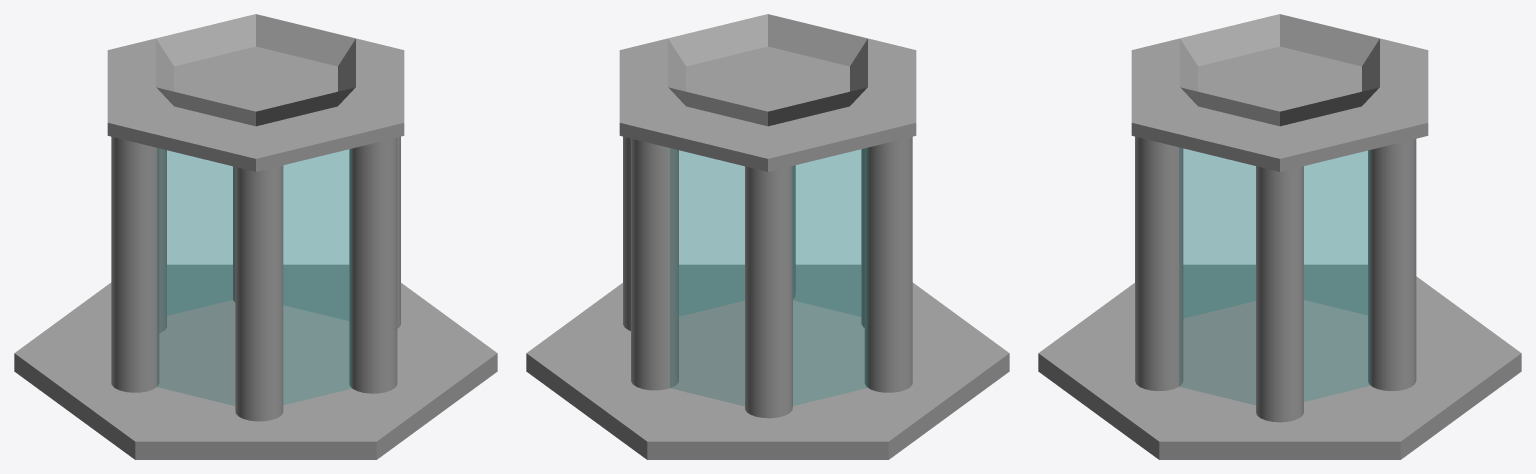
The model's file is DirtMine.fbx.
The picture shows the model from 3 angles, left to right: view 1: azimuth 30°, elevation 25°; view 2: azimuth 150°, elevation 25°; view 3: azimuth 270°, elevation 25°; orthographic projection.
Visible parts, largest first — view 1: Bottom_Base, Top_Base, pPlane1, pPlane3, pCylinder2, pCylinder1, pCylinder3, Top_Base2, pPlane4, pPlane2, pCylinder4, pCylinder6; view 2: Bottom_Base, Top_Base, pPlane6, pPlane2, pCylinder3, pCylinder4, pCylinder5, pPlane3, Top_Base2, pPlane5, pCylinder6, pCylinder2; view 3: Bottom_Base, Top_Base, pPlane5, pPlane4, pCylinder1, pCylinder6, pCylinder5, pPlane1, Top_Base2, pPlane6.
Part boxes in pixels (left/top/right/bottom): Bottom_Base: left=14, top=264, right=497, bottom=459; Top_Base: left=107, top=14, right=404, bottom=171; pPlane1: left=157, top=148, right=234, bottom=405; pPlane3: left=284, top=149, right=351, bottom=404; pCylinder2: left=235, top=165, right=283, bottom=421; pCylinder1: left=349, top=137, right=397, bottom=393; pCylinder3: left=111, top=136, right=159, bottom=392; Top_Base2: left=156, top=14, right=355, bottom=126; pPlane4: left=284, top=150, right=348, bottom=320; pPlane2: left=167, top=151, right=232, bottom=315; pCylinder4: left=159, top=148, right=166, bottom=333; pCylinder6: left=397, top=136, right=400, bottom=328; Bottom_Base: left=526, top=264, right=1009, bottom=459; Top_Base: left=619, top=14, right=916, bottom=171; pPlane6: left=793, top=148, right=867, bottom=405; pPlane2: left=670, top=148, right=744, bottom=405; pCylinder3: left=864, top=136, right=912, bottom=392; pCylinder4: left=745, top=166, right=792, bottom=418; pCylinder5: left=631, top=138, right=678, bottom=390; pPlane3: left=793, top=150, right=860, bottom=316; Top_Base2: left=668, top=14, right=867, bottom=126; pPlane5: left=679, top=151, right=744, bottom=315; pCylinder6: left=623, top=136, right=630, bottom=330; pCylinder2: left=861, top=148, right=864, bottom=327; Bottom_Base: left=1038, top=264, right=1521, bottom=459; Top_Base: left=1131, top=14, right=1428, bottom=171; pPlane5: left=1179, top=148, right=1255, bottom=404; pPlane4: left=1304, top=150, right=1370, bottom=401; pCylinder1: left=1135, top=136, right=1183, bottom=390; pCylinder6: left=1256, top=166, right=1303, bottom=422; pCylinder5: left=1368, top=139, right=1416, bottom=390; pPlane1: left=1184, top=149, right=1255, bottom=317; Top_Base2: left=1180, top=14, right=1379, bottom=126; pPlane6: left=1304, top=151, right=1367, bottom=314.
Size of the model in its own units: 86.6 by 70.49 by 100.
